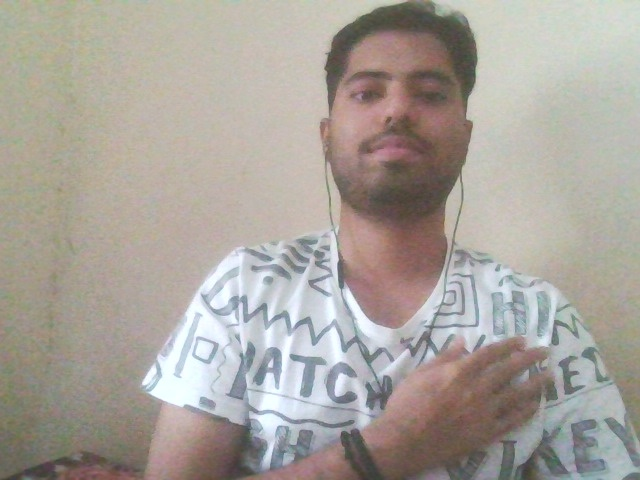Please: (383, 310, 566, 473)
